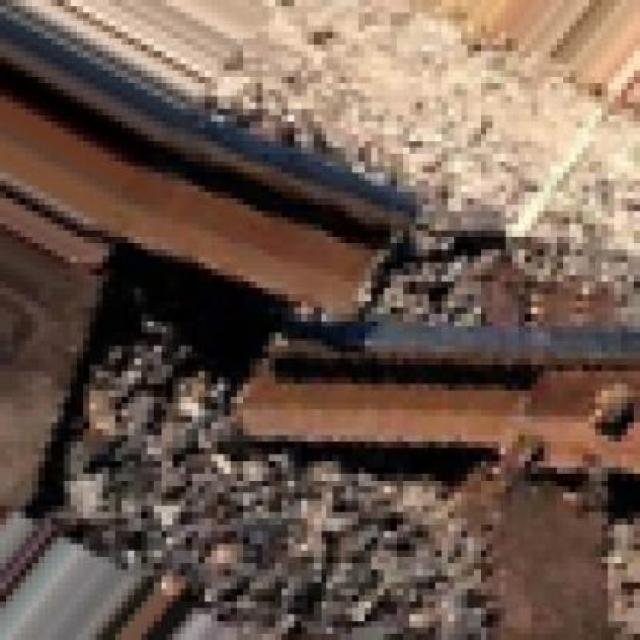defective: (1, 91, 640, 534)
